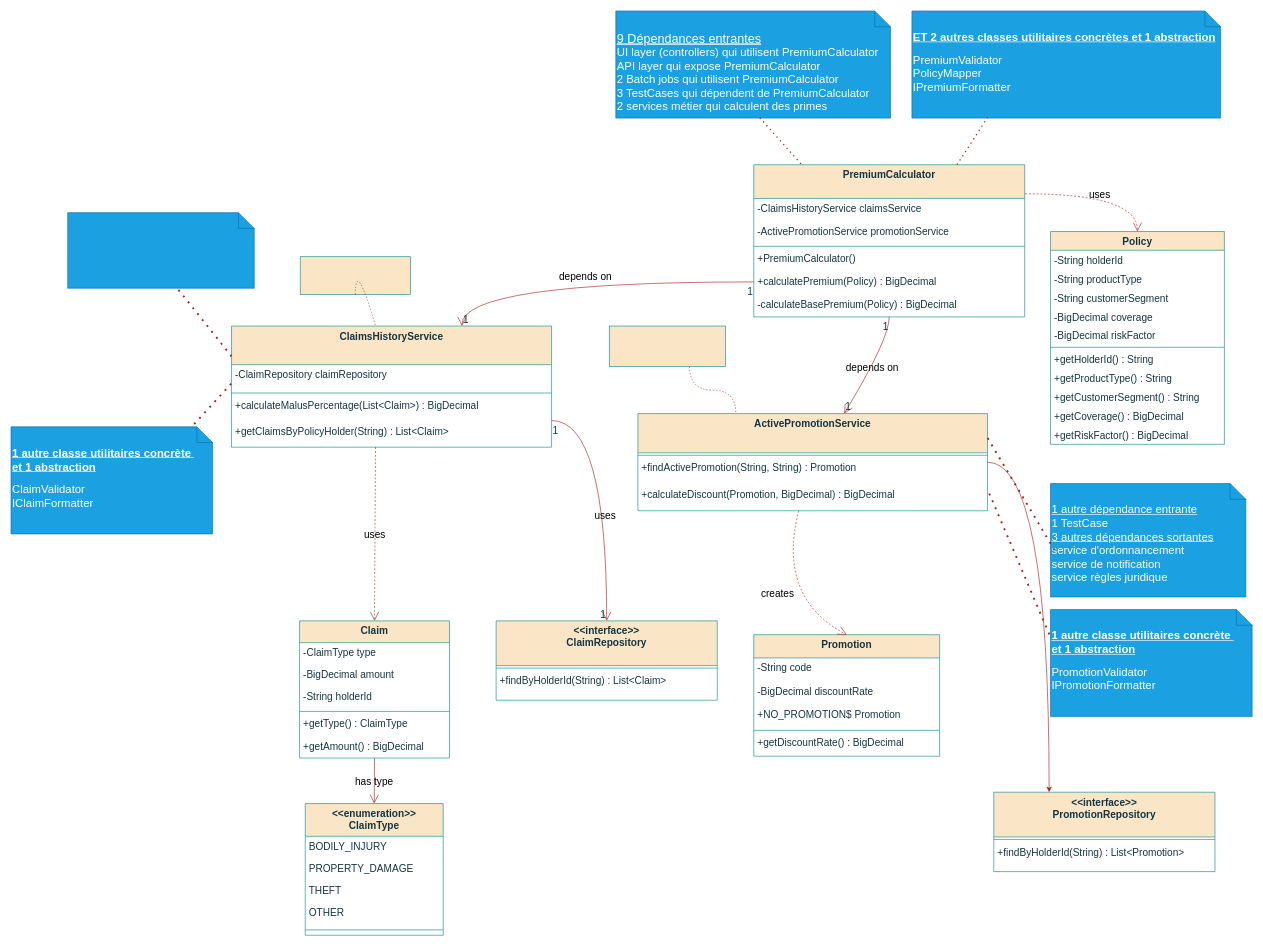
This 1263x946 diagram has some shape labels left out. Here are the shapes that lost their labels. From the top down, the centre of each, then its label:
At pixel 160 250: "2 autres dépendances entrantes 1 TestCase 1 Service de Report".
At pixel 355 275: "Change tous les 3 mois (nouvelles lois, règles)".
At pixel 667 346: "Change chaque semaine (promos, campagnes)".
